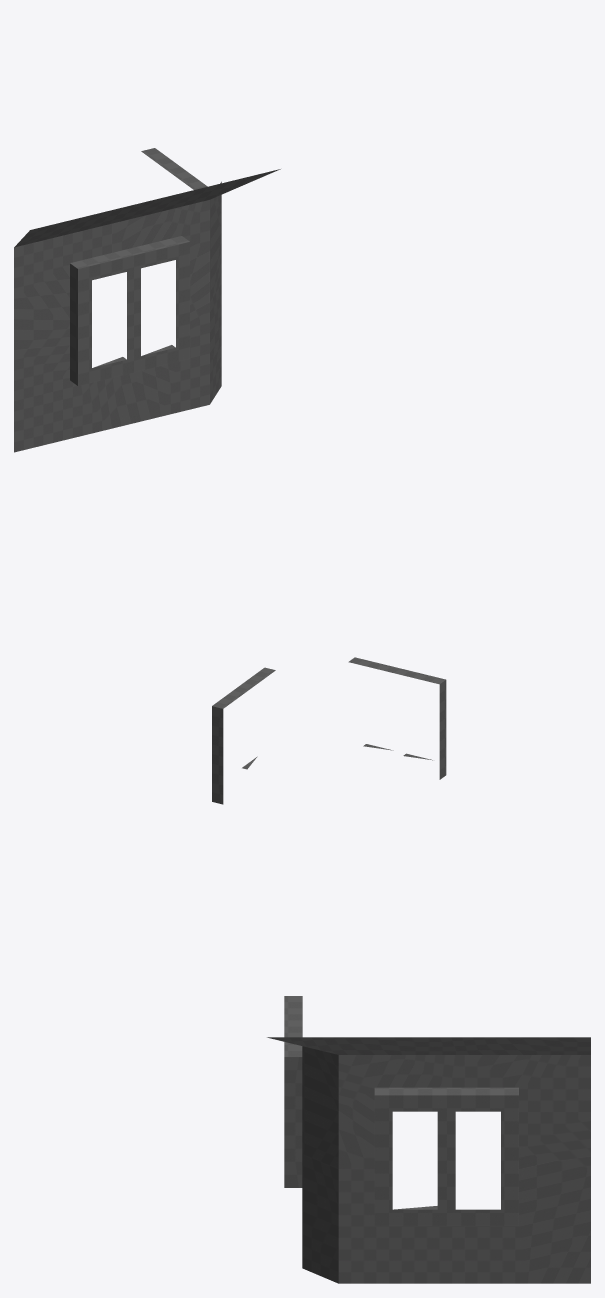
3 views of the same model, one above another, from view 1: azimuth 30°, elevation 25°; view 2: azimuth 150°, elevation 25°; view 3: azimuth 270°, elevation 25° (orthographic). The views are drawn at different scales.
Visible parts, largest first — view 1: 2; view 2: 2; view 3: 2.
Part boxes in pixels (x1,y1,x2,y2): 2: (14,148,280,452); 2: (212,657,446,804); 2: (267,996,590,1283).
Size of the model in its own units: 4 by 2 by 4.
Materials: 2 (2 with a texture image).
